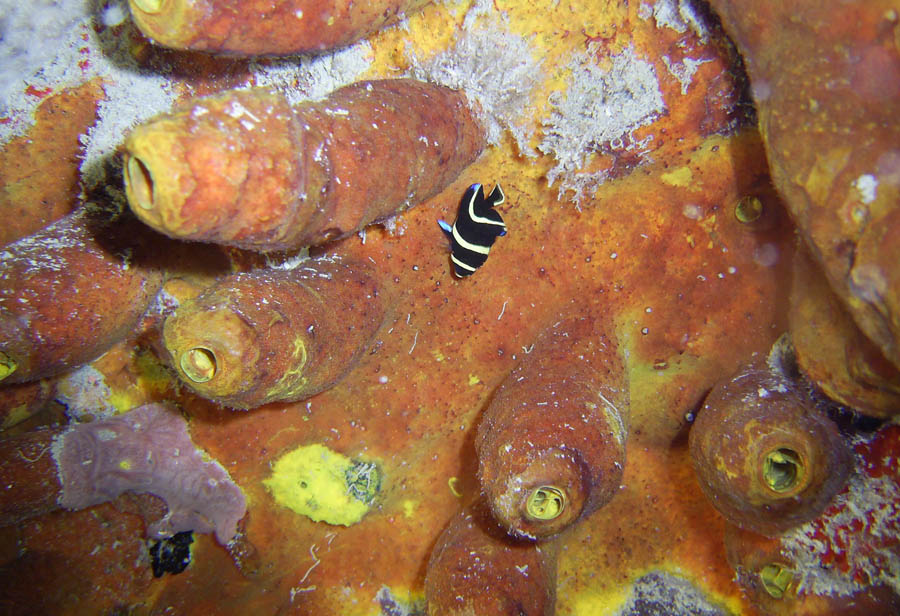Pomacanthus_paru: (440, 169, 522, 291)
